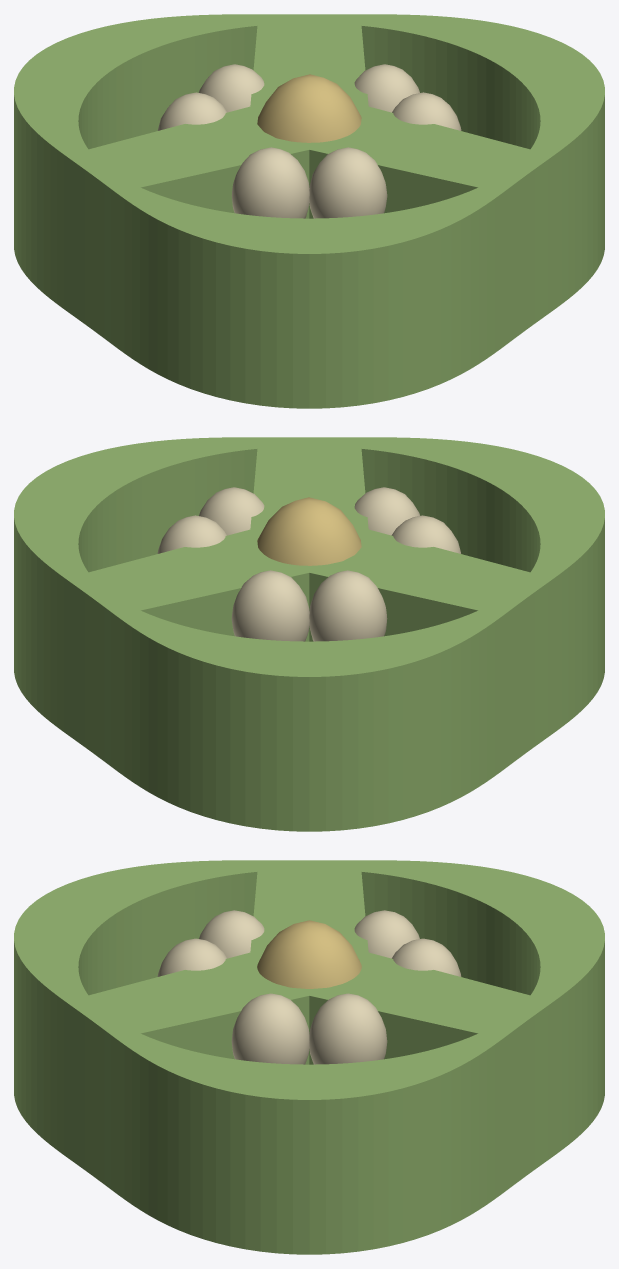
Rendered from tulipan_rez.glb.
3 renders of one model, top to bottom at view 1: azimuth 30°, elevation 25°; view 2: azimuth 150°, elevation 25°; view 3: azimuth 270°, elevation 25°, orthographic.
Parts seen in each view (by area): view 1: part_0, part_1, part_8, part_6, part_2, part_12, part_4, part_10; view 2: part_0, part_1, part_10, part_12, part_4, part_6, part_2, part_8; view 3: part_0, part_1, part_2, part_4, part_8, part_10, part_6, part_12.
Part boxes in pixels (x1,y1,x2,y2): part_0: (14, 14, 604, 408); part_1: (257, 74, 361, 142); part_8: (231, 147, 309, 218); part_6: (309, 147, 387, 218); part_2: (354, 64, 419, 112); part_12: (199, 64, 264, 112); part_4: (392, 92, 461, 130); part_10: (158, 92, 227, 130); part_0: (14, 437, 604, 831); part_1: (257, 497, 361, 565); part_10: (309, 570, 387, 641); part_12: (231, 570, 309, 641); part_4: (199, 487, 264, 535); part_6: (354, 487, 419, 535); part_2: (157, 515, 226, 553); part_8: (391, 515, 460, 553); part_0: (14, 860, 604, 1254); part_1: (257, 920, 361, 988); part_2: (309, 993, 387, 1064); part_4: (231, 993, 309, 1064); part_8: (199, 910, 264, 958); part_10: (354, 910, 419, 958); part_6: (157, 938, 226, 976); part_12: (392, 938, 461, 976).
Bounding box in the file's own units: 0.2594 × 0.0996 × 0.2701.
